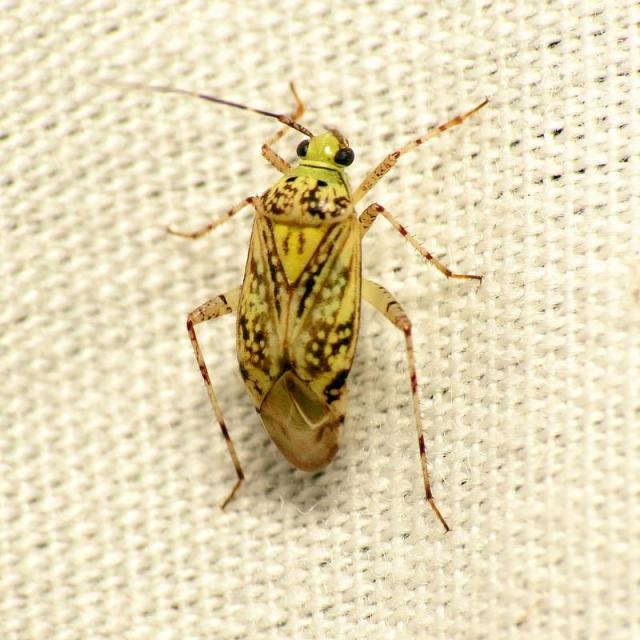Miridae-Adult-: (142, 54, 543, 553)
